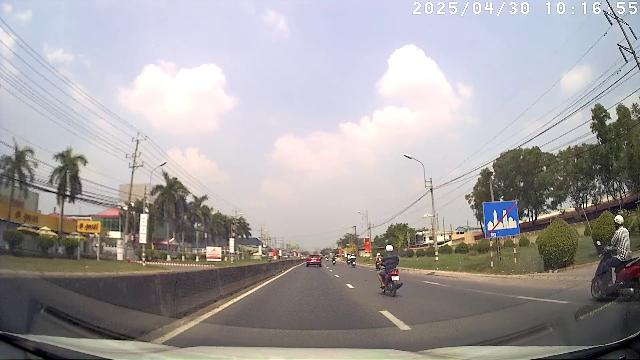421-ket-thuc-khu-dong-dan-cu: (484, 201, 518, 237)
